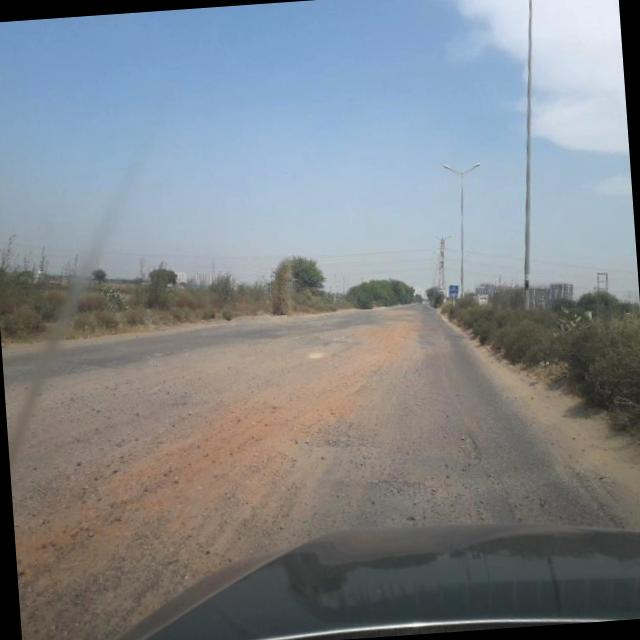pothole: (6, 315, 439, 640), (446, 418, 504, 499)
